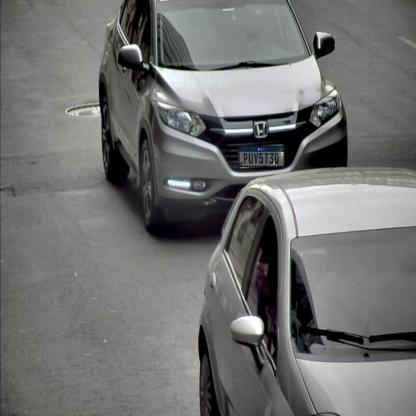PlacaM: (238, 146, 284, 167)
